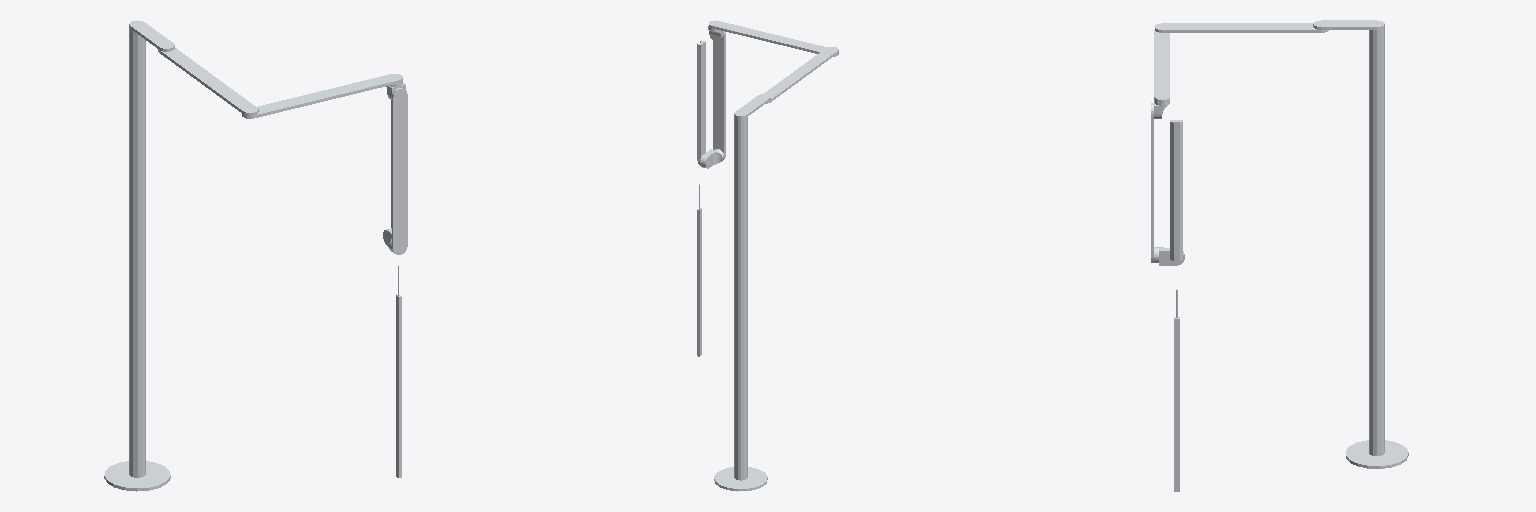
robot.urdf — Medarm:
<?xml version="1.0" encoding="utf-8"?>
<!-- This URDF was automatically created by SolidWorks to URDF Exporter! Originally created by [author] ([email redacted]) 
     Commit Version: 1.6.0-4-g7f85cfe  Build Version: 1.6.7995.38578
     For more information, please see http://wiki.ros.org/sw_urdf_exporter -->
<robot
  name="Medarm">
  <link
    name="base_link">
    <inertial>
      <origin
        xyz="-2.10226734551163E-17 0.171534730752603 -0.783414384790882"
        rpy="0 0 0" />
      <mass
        value="9.01755124549785" />
      <inertia
        ixx="2.07247140960395"
        ixy="5.10416273733909E-19"
        ixz="-5.61023032458238E-18"
        iyy="2.06826789127639"
        iyz="0.0245771881935621"
        izz="0.0110183736339026" />
    </inertial>
    <visual>
      <origin
        xyz="0 0 0"
        rpy="0 0 0" />
      <geometry>
        <mesh
          filename="package://Medarm/meshes/base_link.STL" />
      </geometry>
      <material
        name="">
        <color
          rgba="0.898039215686275 0.917647058823529 0.929411764705882 1" />
      </material>
    </visual>
    <collision>
      <origin
        xyz="0 0 0"
        rpy="0 0 0" />
      <geometry>
        <mesh
          filename="package://Medarm/meshes/base_link.STL" />
      </geometry>
    </collision>
  </link>
  <link
    name="Link 1">
    <inertial>
      <origin
        xyz="0.273302562267948 2.6925240291597E-17 -0.00546605124535897"
        rpy="0 0 0" />
      <mass
        value="0.728014376029328" />
      <inertia
        ixx="0.00015821007532516"
        ixy="-2.20372531194536E-18"
        ixz="7.69166285363975E-05"
        iyy="0.0172794149216318"
        iyz="8.8935118790423E-21"
        izz="0.0174190218388158" />
    </inertial>
    <visual>
      <origin
        xyz="0 0 0"
        rpy="0 0 0" />
      <geometry>
        <mesh
          filename="package://Medarm/meshes/Link 1.STL" />
      </geometry>
      <material
        name="">
        <color
          rgba="0.898039215686275 0.917647058823529 0.929411764705882 1" />
      </material>
    </visual>
    <collision>
      <origin
        xyz="0 0 0"
        rpy="0 0 0" />
      <geometry>
        <mesh
          filename="package://Medarm/meshes/Link 1.STL" />
      </geometry>
    </collision>
  </link>
  <joint
    name="J1"
    type="continuous">
    <origin
      xyz="0 0 0"
      rpy="0 0 -1.5707963267949" />
    <parent
      link="base_link" />
    <child
      link="Link 1" />
    <axis
      xyz="0 0 1" />
  </joint>
  <link
    name="Link 2">
    <inertial>
      <origin
        xyz="0.235898699097035 -0.000198886242888441 -0.005"
        rpy="0 0 0" />
      <mass
        value="0.660155974711788" />
      <inertia
        ixx="0.000147623955912093"
        ixy="1.06657630064405E-18"
        ixz="3.8519514788836E-21"
        iyy="0.0134229973753989"
        iyz="1.03371900882913E-21"
        izz="0.0135596187317324" />
    </inertial>
    <visual>
      <origin
        xyz="0 0 0"
        rpy="0 0 0" />
      <geometry>
        <mesh
          filename="package://Medarm/meshes/Link 2.STL" />
      </geometry>
      <material
        name="">
        <color
          rgba="0.898039215686275 0.917647058823529 0.929411764705882 1" />
      </material>
    </visual>
    <collision>
      <origin
        xyz="0 0 0"
        rpy="0 0 0" />
      <geometry>
        <mesh
          filename="package://Medarm/meshes/Link 2.STL" />
      </geometry>
    </collision>
  </link>
  <joint
    name="J2"
    type="continuous">
    <origin
      xyz="0.499801113757111 0.0141013009029647 -0.01"
      rpy="0 0 1.5707963267949" />
    <parent
      link="Link 1" />
    <child
      link="Link 2" />
    <axis
      xyz="0 0 1" />
  </joint>
  <link
    name="Link 3">
    <inertial>
      <origin
        xyz="-4.11649377363155E-08 -0.00518583052058241 -0.0205754898182167"
        rpy="0 0 0" />
      <mass
        value="0.244748418685594" />
      <inertia
        ixx="0.000120544353513894"
        ixy="6.40222901061701E-10"
        ixz="5.47959087722168E-11"
        iyy="0.0001371924122593"
        iyz="-1.82059362418803E-05"
        izz="7.19104761785958E-05" />
    </inertial>
    <visual>
      <origin
        xyz="0 0 0"
        rpy="0 0 0" />
      <geometry>
        <mesh
          filename="package://Medarm/meshes/Link 3.STL" />
      </geometry>
      <material
        name="">
        <color
          rgba="0.898039215686275 0.917647058823529 0.929411764705882 1" />
      </material>
    </visual>
    <collision>
      <origin
        xyz="0 0 0"
        rpy="0 0 0" />
      <geometry>
        <mesh
          filename="package://Medarm/meshes/Link 3.STL" />
      </geometry>
    </collision>
  </link>
  <joint
    name="J3"
    type="continuous">
    <origin
      xyz="0.485898699097035 -0.000198886242888774 -0.01"
      rpy="0 0 0" />
    <parent
      link="Link 2" />
    <child
      link="Link 3" />
    <axis
      xyz="0 0 -1" />
  </joint>
  <link
    name="Link 4">
    <inertial>
      <origin
        xyz="0.226697437732052 0 0.0295339487546409"
        rpy="0 0 0" />
      <mass
        value="0.728014376029328" />
      <inertia
        ixx="0.00015821007532516"
        ixy="-1.19265540567837E-18"
        ixz="-7.69166285363986E-05"
        iyy="0.0172794149216318"
        iyz="-4.21180437675388E-20"
        izz="0.0174190218388158" />
    </inertial>
    <visual>
      <origin
        xyz="0 0 0"
        rpy="0 0 0" />
      <geometry>
        <mesh
          filename="package://Medarm/meshes/Link 4.STL" />
      </geometry>
      <material
        name="">
        <color
          rgba="0.898039215686275 0.917647058823529 0.929411764705882 1" />
      </material>
    </visual>
    <collision>
      <origin
        xyz="0 0 0"
        rpy="0 0 0" />
      <geometry>
        <mesh
          filename="package://Medarm/meshes/Link 4.STL" />
      </geometry>
    </collision>
  </link>
  <joint
    name="J4"
    type="continuous">
    <origin
      xyz="0 0 -0.0400000000000003"
      rpy="1.5707963267949 1.5707963267949 0" />
    <parent
      link="Link 3" />
    <child
      link="Link 4" />
    <axis
      xyz="0 0 1" />
  </joint>
  <link
    name="Link 5">
    <inertial>
      <origin
        xyz="0.00707413261964218 -2.3856740916095E-08 0.0353004632382105"
        rpy="0 0 0" />
      <mass
        value="0.370475459077024" />
      <inertia
        ixx="0.000362863984321493"
        ixy="-6.76403536040494E-10"
        ixz="4.48969373637121E-05"
        iyy="0.000337999935988037"
        iyz="1.31503058470489E-10"
        izz="0.000111773204131464" />
    </inertial>
    <visual>
      <origin
        xyz="0 0 0"
        rpy="0 0 0" />
      <geometry>
        <mesh
          filename="package://Medarm/meshes/Link 5.STL" />
      </geometry>
      <material
        name="">
        <color
          rgba="0.898039215686275 0.917647058823529 0.929411764705882 1" />
      </material>
    </visual>
    <collision>
      <origin
        xyz="0 0 0"
        rpy="0 0 0" />
      <geometry>
        <mesh
          filename="package://Medarm/meshes/Link 5.STL" />
      </geometry>
    </collision>
  </link>
  <joint
    name="J5"
    type="continuous">
    <origin
      xyz="0.5 0 -0.045"
      rpy="0 0 1.5707963267949" />
    <parent
      link="Link 4" />
    <child
      link="Link 5" />
    <axis
      xyz="0 0 1" />
  </joint>
  <link
    name="Link 6">
    <inertial>
      <origin
        xyz="-0.227141365320987 -5.55111512312578E-17 -0.00870017025386105"
        rpy="0 0 0" />
      <mass
        value="0.684049775699944" />
      <inertia
        ixx="0.000110743192142827"
        ixy="-1.75756321318145E-19"
        ixz="5.72376533639247E-05"
        iyy="0.0144919464140292"
        iyz="1.43164272781778E-20"
        izz="0.0145725032241814" />
    </inertial>
    <visual>
      <origin
        xyz="0 0 0"
        rpy="0 0 0" />
      <geometry>
        <mesh
          filename="package://Medarm/meshes/Link 6.STL" />
      </geometry>
      <material
        name="">
        <color
          rgba="0.898039215686275 0.917647058823529 0.929411764705882 1" />
      </material>
    </visual>
    <collision>
      <origin
        xyz="0 0 0"
        rpy="0 0 0" />
      <geometry>
        <mesh
          filename="package://Medarm/meshes/Link 6.STL" />
      </geometry>
    </collision>
  </link>
  <joint
    name="J6"
    type="continuous">
    <origin
      xyz="0.04 0 0"
      rpy="-1.5707963267949 0 -1.5707963267949" />
    <parent
      link="Link 5" />
    <child
      link="Link 6" />
    <axis
      xyz="0 0 1" />
  </joint>
  <link
    name="Link 7">
    <inertial>
      <origin
        xyz="-1.11022302462516E-16 0 0.394418166148166"
        rpy="0 0 0" />
      <mass
        value="0.329257258956242" />
      <inertia
        ixx="0.0103673470107912"
        ixy="1.1025578829938E-21"
        ixz="-3.70105694013573E-19"
        iyy="0.0103592470107912"
        iyz="3.7522183101605E-20"
        izz="1.35163737109299E-05" />
    </inertial>
    <visual>
      <origin
        xyz="0 0 0"
        rpy="0 0 0" />
      <geometry>
        <mesh
          filename="package://Medarm/meshes/Link 7.STL" />
      </geometry>
      <material
        name="">
        <color
          rgba="0.898039215686275 0.917647058823529 0.929411764705882 1" />
      </material>
    </visual>
    <collision>
      <origin
        xyz="0 0 0"
        rpy="0 0 0" />
      <geometry>
        <mesh
          filename="package://Medarm/meshes/Link 7.STL" />
      </geometry>
    </collision>
  </link>
  <joint
    name="J7"
    type="prismatic">
    <origin
      xyz="0.1 0 0"
      rpy="3.1416 -1.5708 0" />
    <parent
      link="Link 6" />
    <child
      link="Link 7" />
    <axis
      xyz="0 0 -1" />
    <limit
      lower="0"
      upper="0.5"
      effort="0"
      velocity="0" />
  </joint>
</robot>

--- What the picture shows (computed from the rendered views, not written in the file) ---
3 views of the same robot in one strip: view 1: azimuth 30°, elevation 25°; view 2: azimuth 150°, elevation 25°; view 3: azimuth 270°, elevation 25° (orthographic).
Model Medarm with 8 links and 7 joints (6 continuous, 1 prismatic), rooted at base_link, posed all joints at 0.
Links seen in each view (by area): view 1: base_link, Link 4, Link 2, Link 1, Link 7; view 2: base_link, Link 4, Link 6, Link 2, Link 1, Link 7; view 3: base_link, Link 6, Link 1, Link 7, Link 2.
Boxes of the visible links, bbox=[...] form: base_link: bbox=[104, 20, 174, 491]; Link 4: bbox=[392, 88, 407, 254]; Link 2: bbox=[242, 74, 402, 118]; Link 1: bbox=[158, 48, 258, 115]; Link 7: bbox=[396, 265, 401, 477]; base_link: bbox=[714, 93, 770, 491]; Link 4: bbox=[713, 31, 725, 158]; Link 6: bbox=[697, 41, 705, 164]; Link 2: bbox=[709, 20, 838, 56]; Link 1: bbox=[765, 47, 838, 103]; Link 7: bbox=[697, 184, 701, 356]; base_link: bbox=[1313, 20, 1408, 468]; Link 6: bbox=[1170, 120, 1182, 265]; Link 1: bbox=[1155, 23, 1328, 32]; Link 7: bbox=[1174, 289, 1179, 491]; Link 2: bbox=[1154, 30, 1169, 102].
Size in the robot's own frame: 0.6446 by 0.81 by 1.5 metres.
Meshes: 8 distinct files referenced, 8 mesh visuals loaded (8 binary STL).